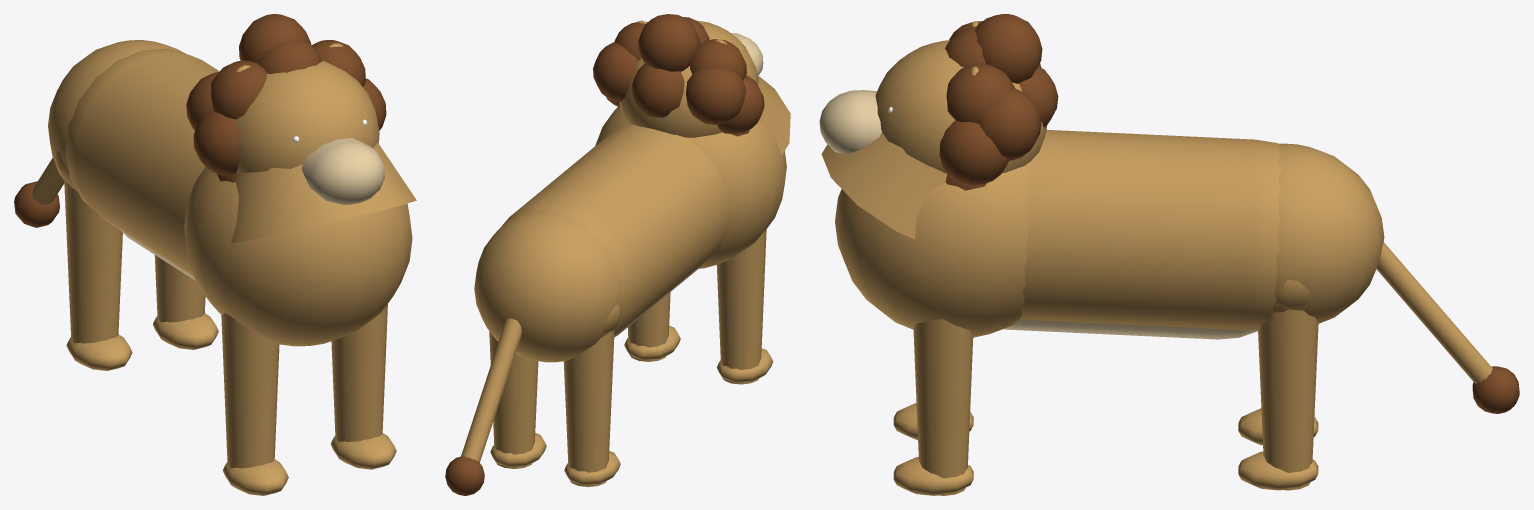
Rendered from h02-singa.glb.
3 renders of one model, left to right at view 1: azimuth 30°, elevation 25°; view 2: azimuth 150°, elevation 25°; view 3: azimuth 270°, elevation 25°, orthographic. The views are drawn at different scales.
Visible parts, largest first — view 1: Singa, head, neck; view 2: Singa, head, neck; view 3: Singa, head, neck.
Boxes of the visible parts, x1,y1,x2,y2 form: Singa: [14, 40, 412, 495]; head: [186, 14, 386, 204]; neck: [231, 142, 416, 243]; Singa: [445, 107, 786, 495]; head: [593, 14, 764, 137]; neck: [758, 75, 790, 155]; Singa: [835, 130, 1519, 495]; head: [819, 14, 1058, 190]; neck: [821, 132, 946, 239].
Bounding box in the file's own units: 0.5 × 1.05 × 1.5.
